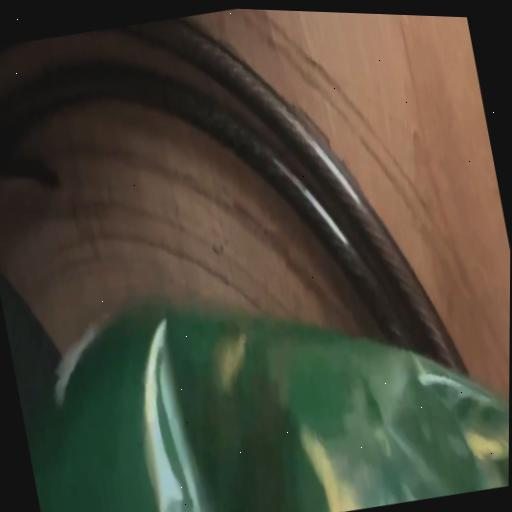cafe_xay: (27, 301, 509, 512)
